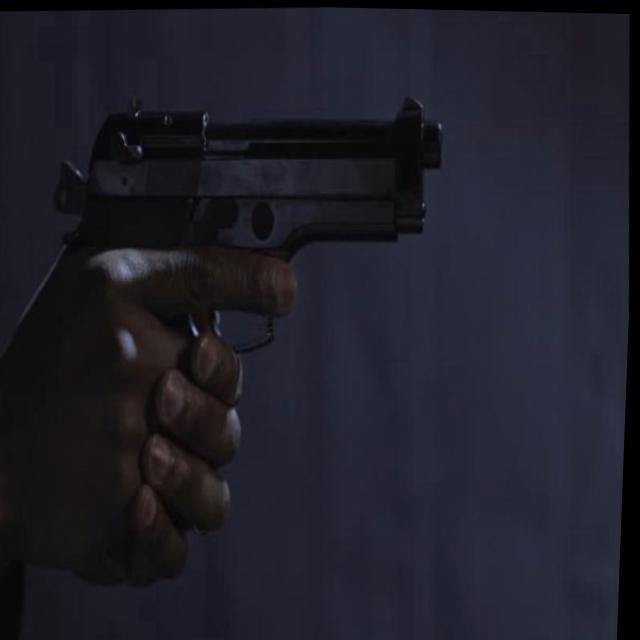weapon: (42, 28, 488, 384)
